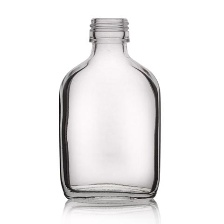bottle: (53, 11, 166, 205)
